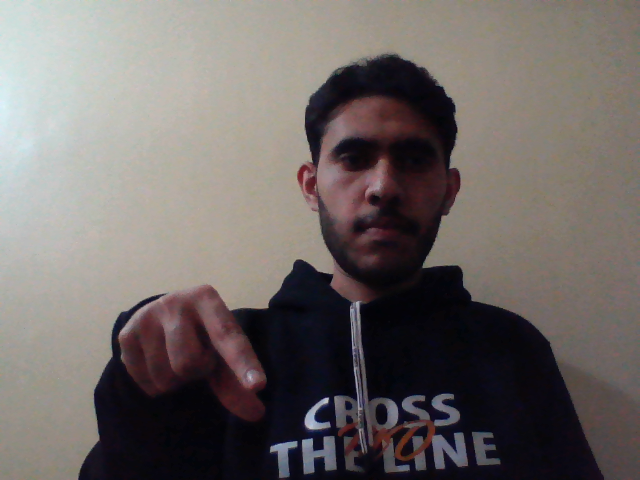Q: (105, 277, 278, 424)
